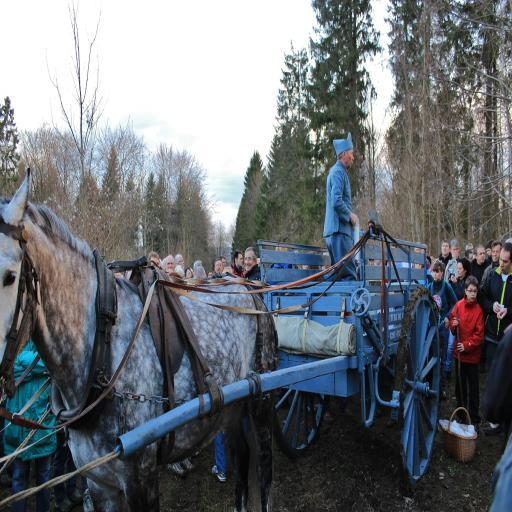Horse: (0, 166, 280, 512)
